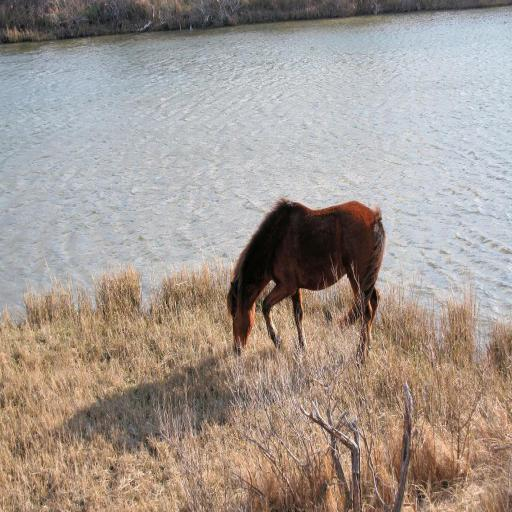horse: (226, 195, 386, 367)
